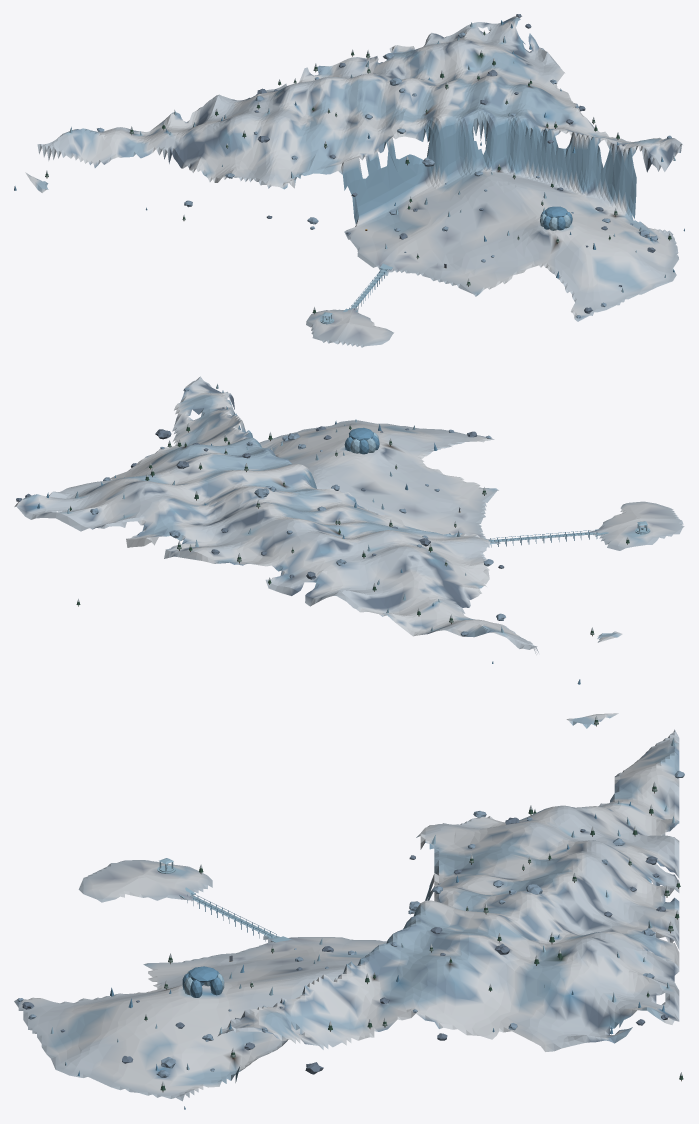
The model's file is frost_isl_frostreach_lod1.glb.
The picture shows the model from 3 angles, top to bottom: view 1: azimuth 30°, elevation 25°; view 2: azimuth 150°, elevation 25°; view 3: azimuth 270°, elevation 25°; orthographic projection. The views are drawn at different scales.
Parts seen in each view (by area): view 1: geometry_0; view 2: geometry_0; view 3: geometry_0.
Boxes of the visible parts, bbox=[...] form: geometry_0: bbox=[14, 14, 684, 347]; geometry_0: bbox=[14, 376, 684, 684]; geometry_0: bbox=[14, 713, 684, 1109].
Size of the model in its own units: 344 by 64.41 by 290.
